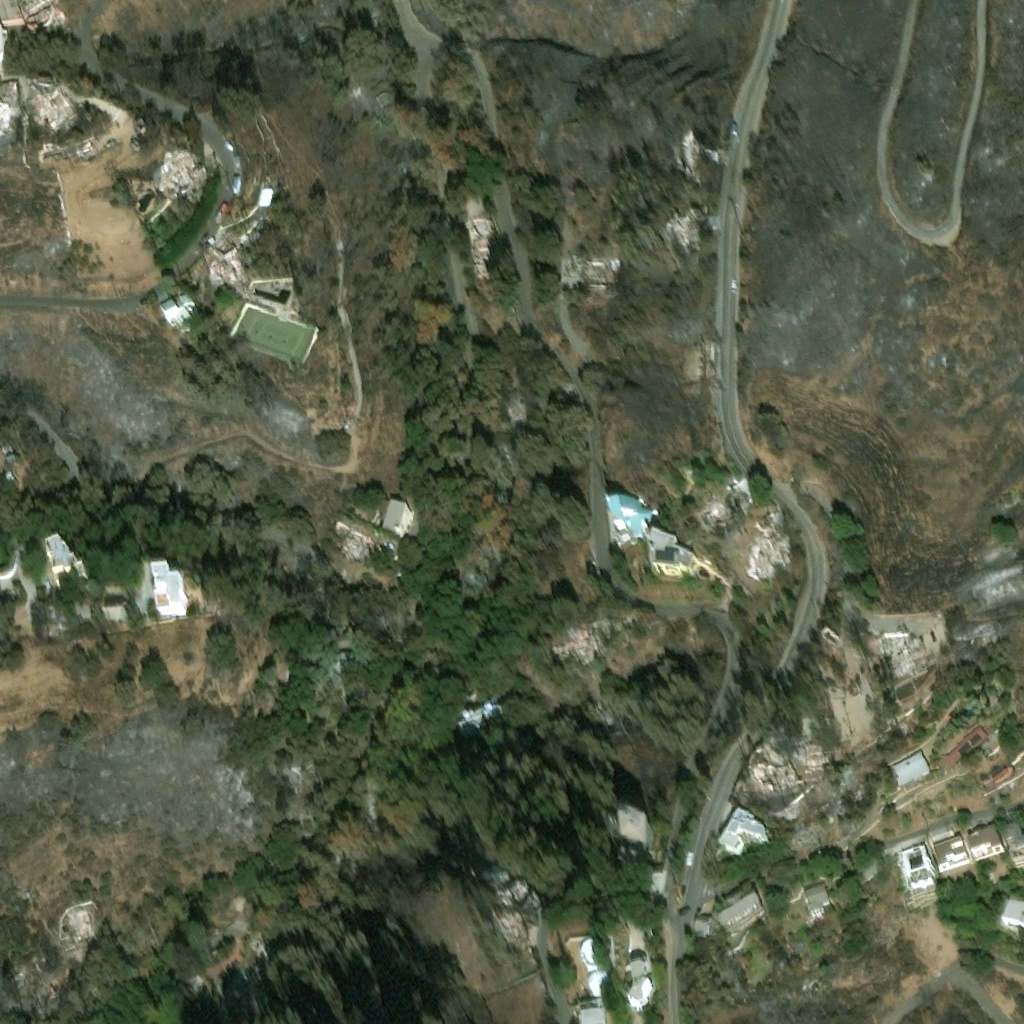0 no-damage: (605, 498, 659, 550), (718, 807, 770, 856), (619, 947, 657, 1011), (649, 538, 700, 580), (887, 748, 933, 789), (797, 878, 830, 917), (379, 500, 412, 536), (581, 1010, 605, 1023)
1 minor-damage: (712, 887, 764, 930), (978, 760, 1018, 793), (692, 914, 718, 939)
3 destroyed: (934, 724, 990, 774), (46, 537, 91, 594), (221, 948, 273, 997), (26, 88, 78, 137), (738, 521, 787, 571), (872, 629, 925, 674), (152, 148, 202, 195), (497, 871, 543, 917), (672, 203, 719, 248), (53, 904, 101, 948), (556, 618, 601, 664), (927, 827, 970, 874), (454, 698, 502, 738), (678, 136, 722, 176), (201, 240, 241, 284), (0, 0, 58, 30), (462, 195, 496, 246), (336, 523, 379, 563), (486, 912, 538, 945), (900, 844, 937, 889), (965, 827, 1006, 863), (695, 498, 734, 535), (155, 576, 187, 614), (754, 759, 798, 785), (996, 898, 1023, 939), (161, 303, 197, 333), (324, 652, 358, 682), (618, 808, 648, 841), (978, 688, 1005, 716), (617, 844, 642, 871), (732, 779, 754, 808), (997, 821, 1023, 844), (471, 244, 492, 272), (725, 489, 748, 513), (588, 255, 607, 284), (334, 628, 359, 650), (818, 630, 841, 652), (1008, 838, 1023, 871), (175, 293, 197, 313), (190, 990, 210, 1012), (802, 745, 819, 763), (257, 187, 273, 206), (974, 623, 995, 636), (0, 25, 5, 75), (134, 120, 147, 134), (0, 585, 11, 600), (897, 719, 910, 731), (129, 138, 140, 149), (572, 257, 582, 269), (608, 253, 618, 263), (5, 472, 13, 480), (5, 455, 14, 462)
